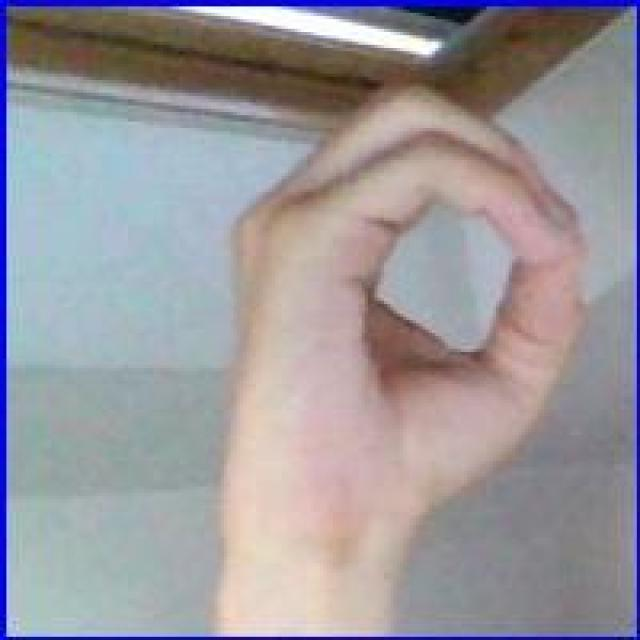O: (224, 75, 592, 562)
